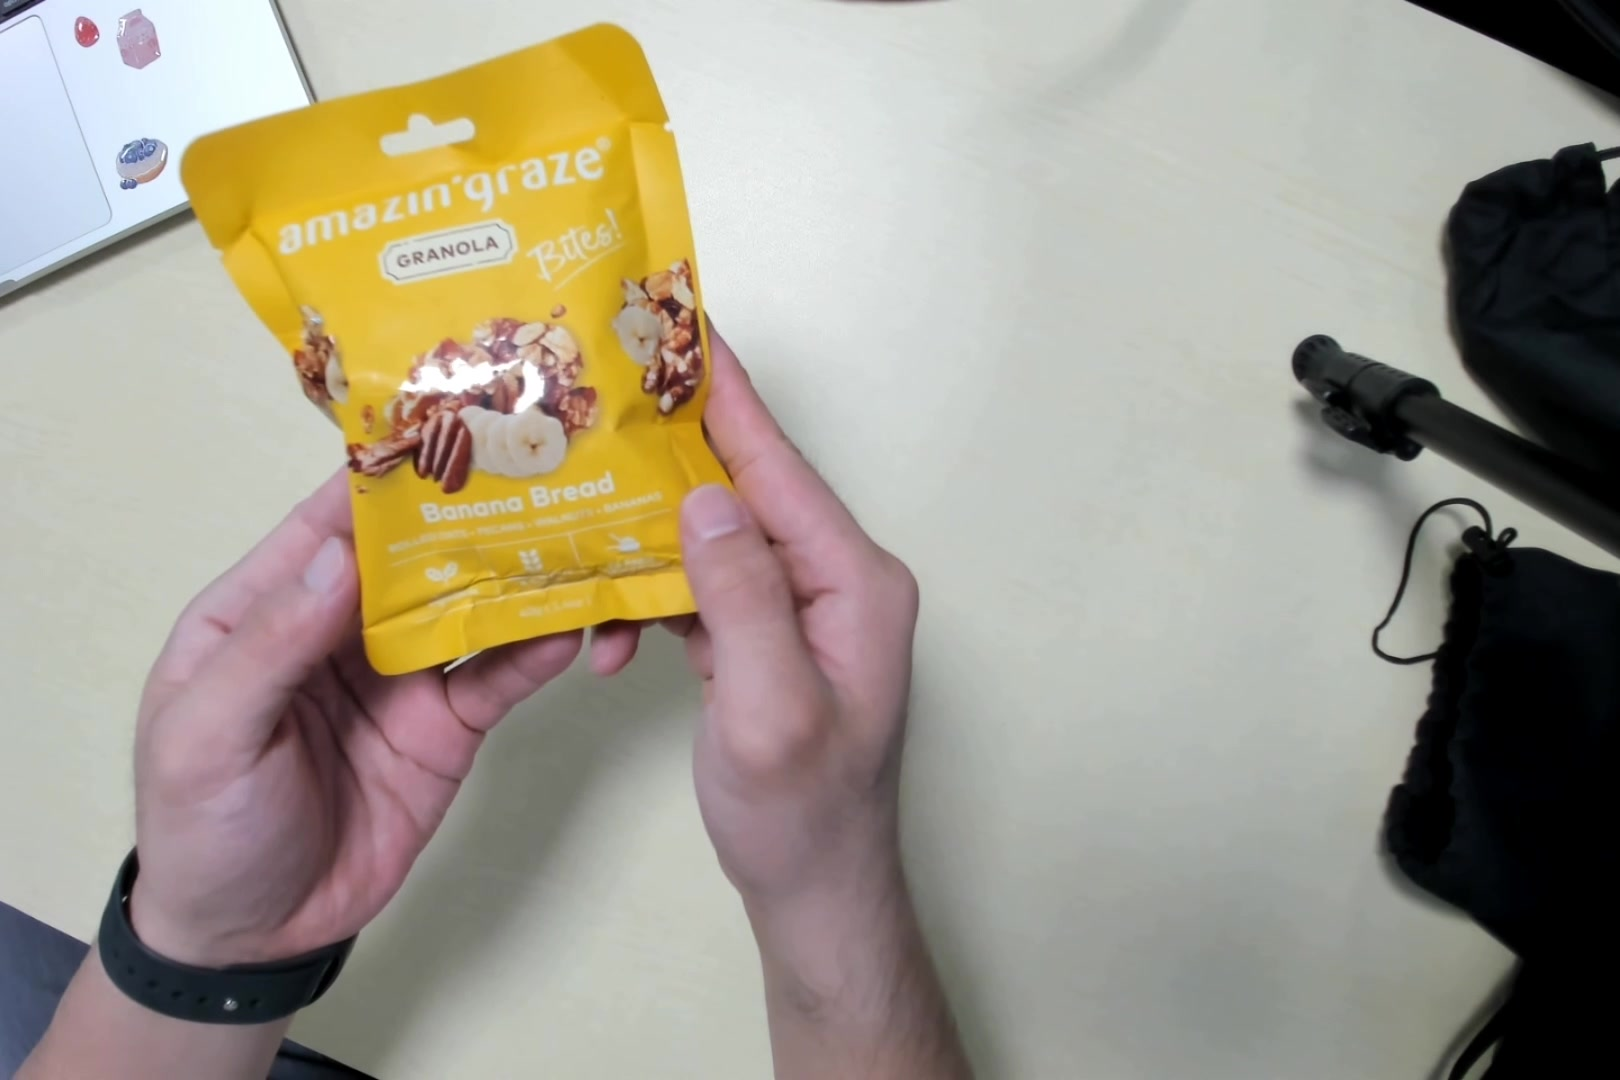BreakfastCereals_0-99g_NonHalal_NonHealthy: (251, 115, 746, 621)
